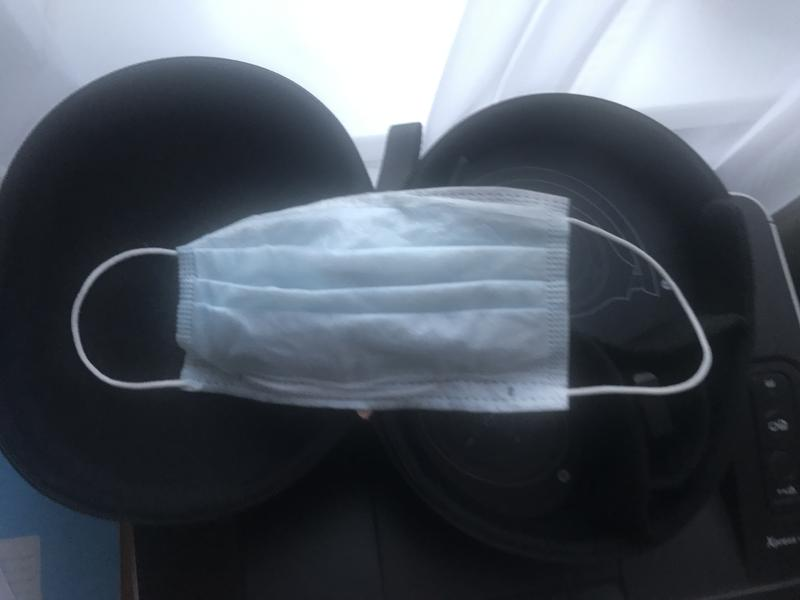medical_mask: (70, 184, 714, 416)
